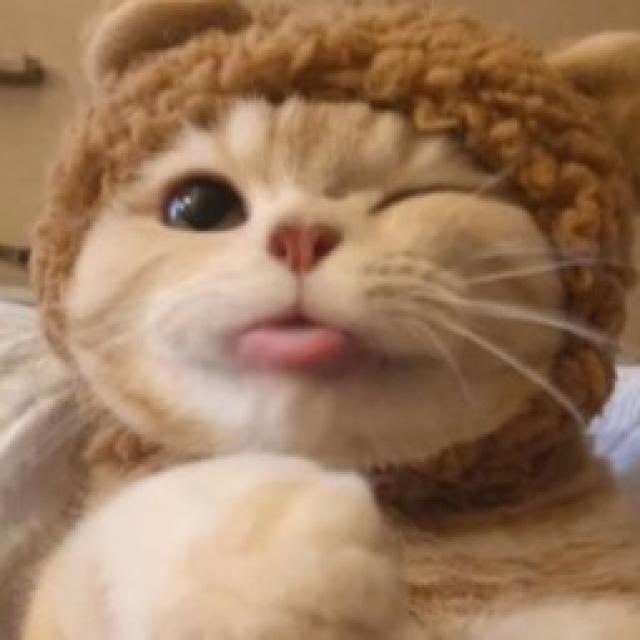Happy: (118, 111, 546, 429)
